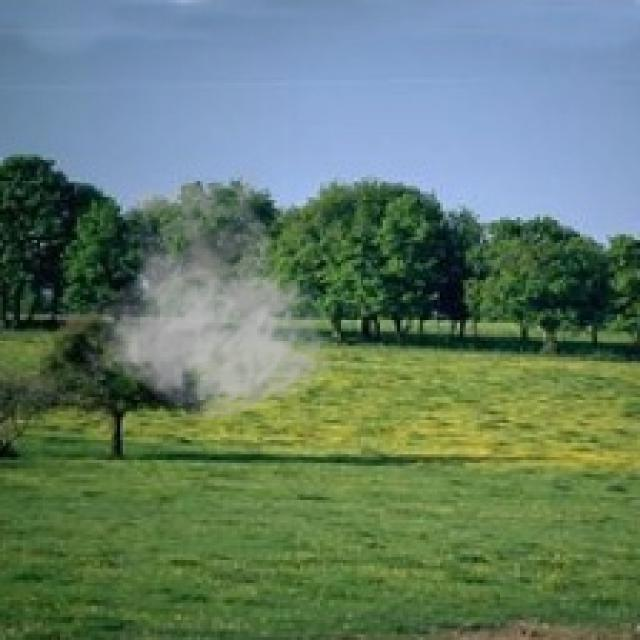Smoke: (82, 163, 338, 423)
